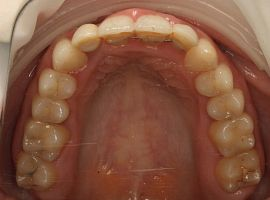UL1BC_healthy: (196, 66, 236, 99)
UL1M_healthy: (210, 115, 254, 157)
UL2BC_healthy: (207, 94, 242, 121)
UL2M_decay: (216, 151, 260, 195)
ULCI_healthy: (135, 16, 171, 42)
ULC_healthy: (181, 45, 216, 73)
ULLI_healthy: (170, 25, 195, 47)
UR1BC_healthy: (38, 70, 77, 100)
UR1M_healthy: (23, 122, 69, 163)
UR2BC_healthy: (31, 96, 65, 124)
UR2M_decay: (15, 156, 52, 192)
URCI_healthy: (100, 17, 135, 44)
URC_healthy: (53, 41, 86, 74)
URLI_healthy: (73, 24, 99, 52)
